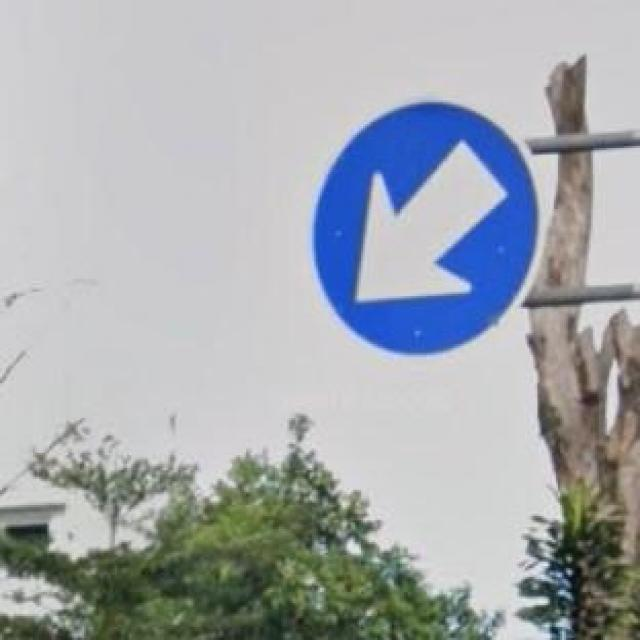traffic sign: (316, 107, 534, 362)
